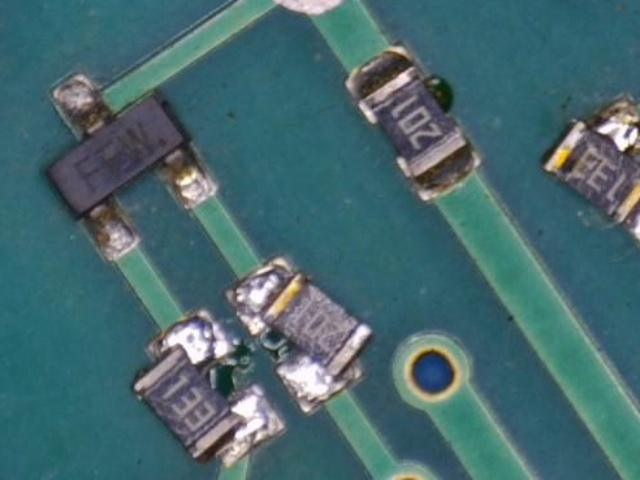pcb_defect: (130, 305, 288, 471), (223, 253, 373, 413), (540, 93, 640, 258), (446, 480, 587, 480)
